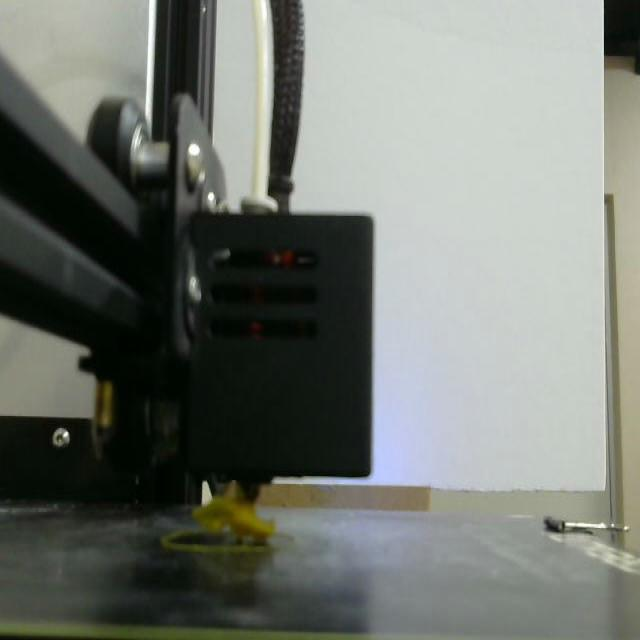spaghetti: (173, 483, 283, 558)
